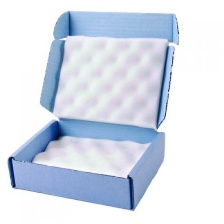foam_box: (47, 32, 170, 133), (25, 131, 154, 180)
